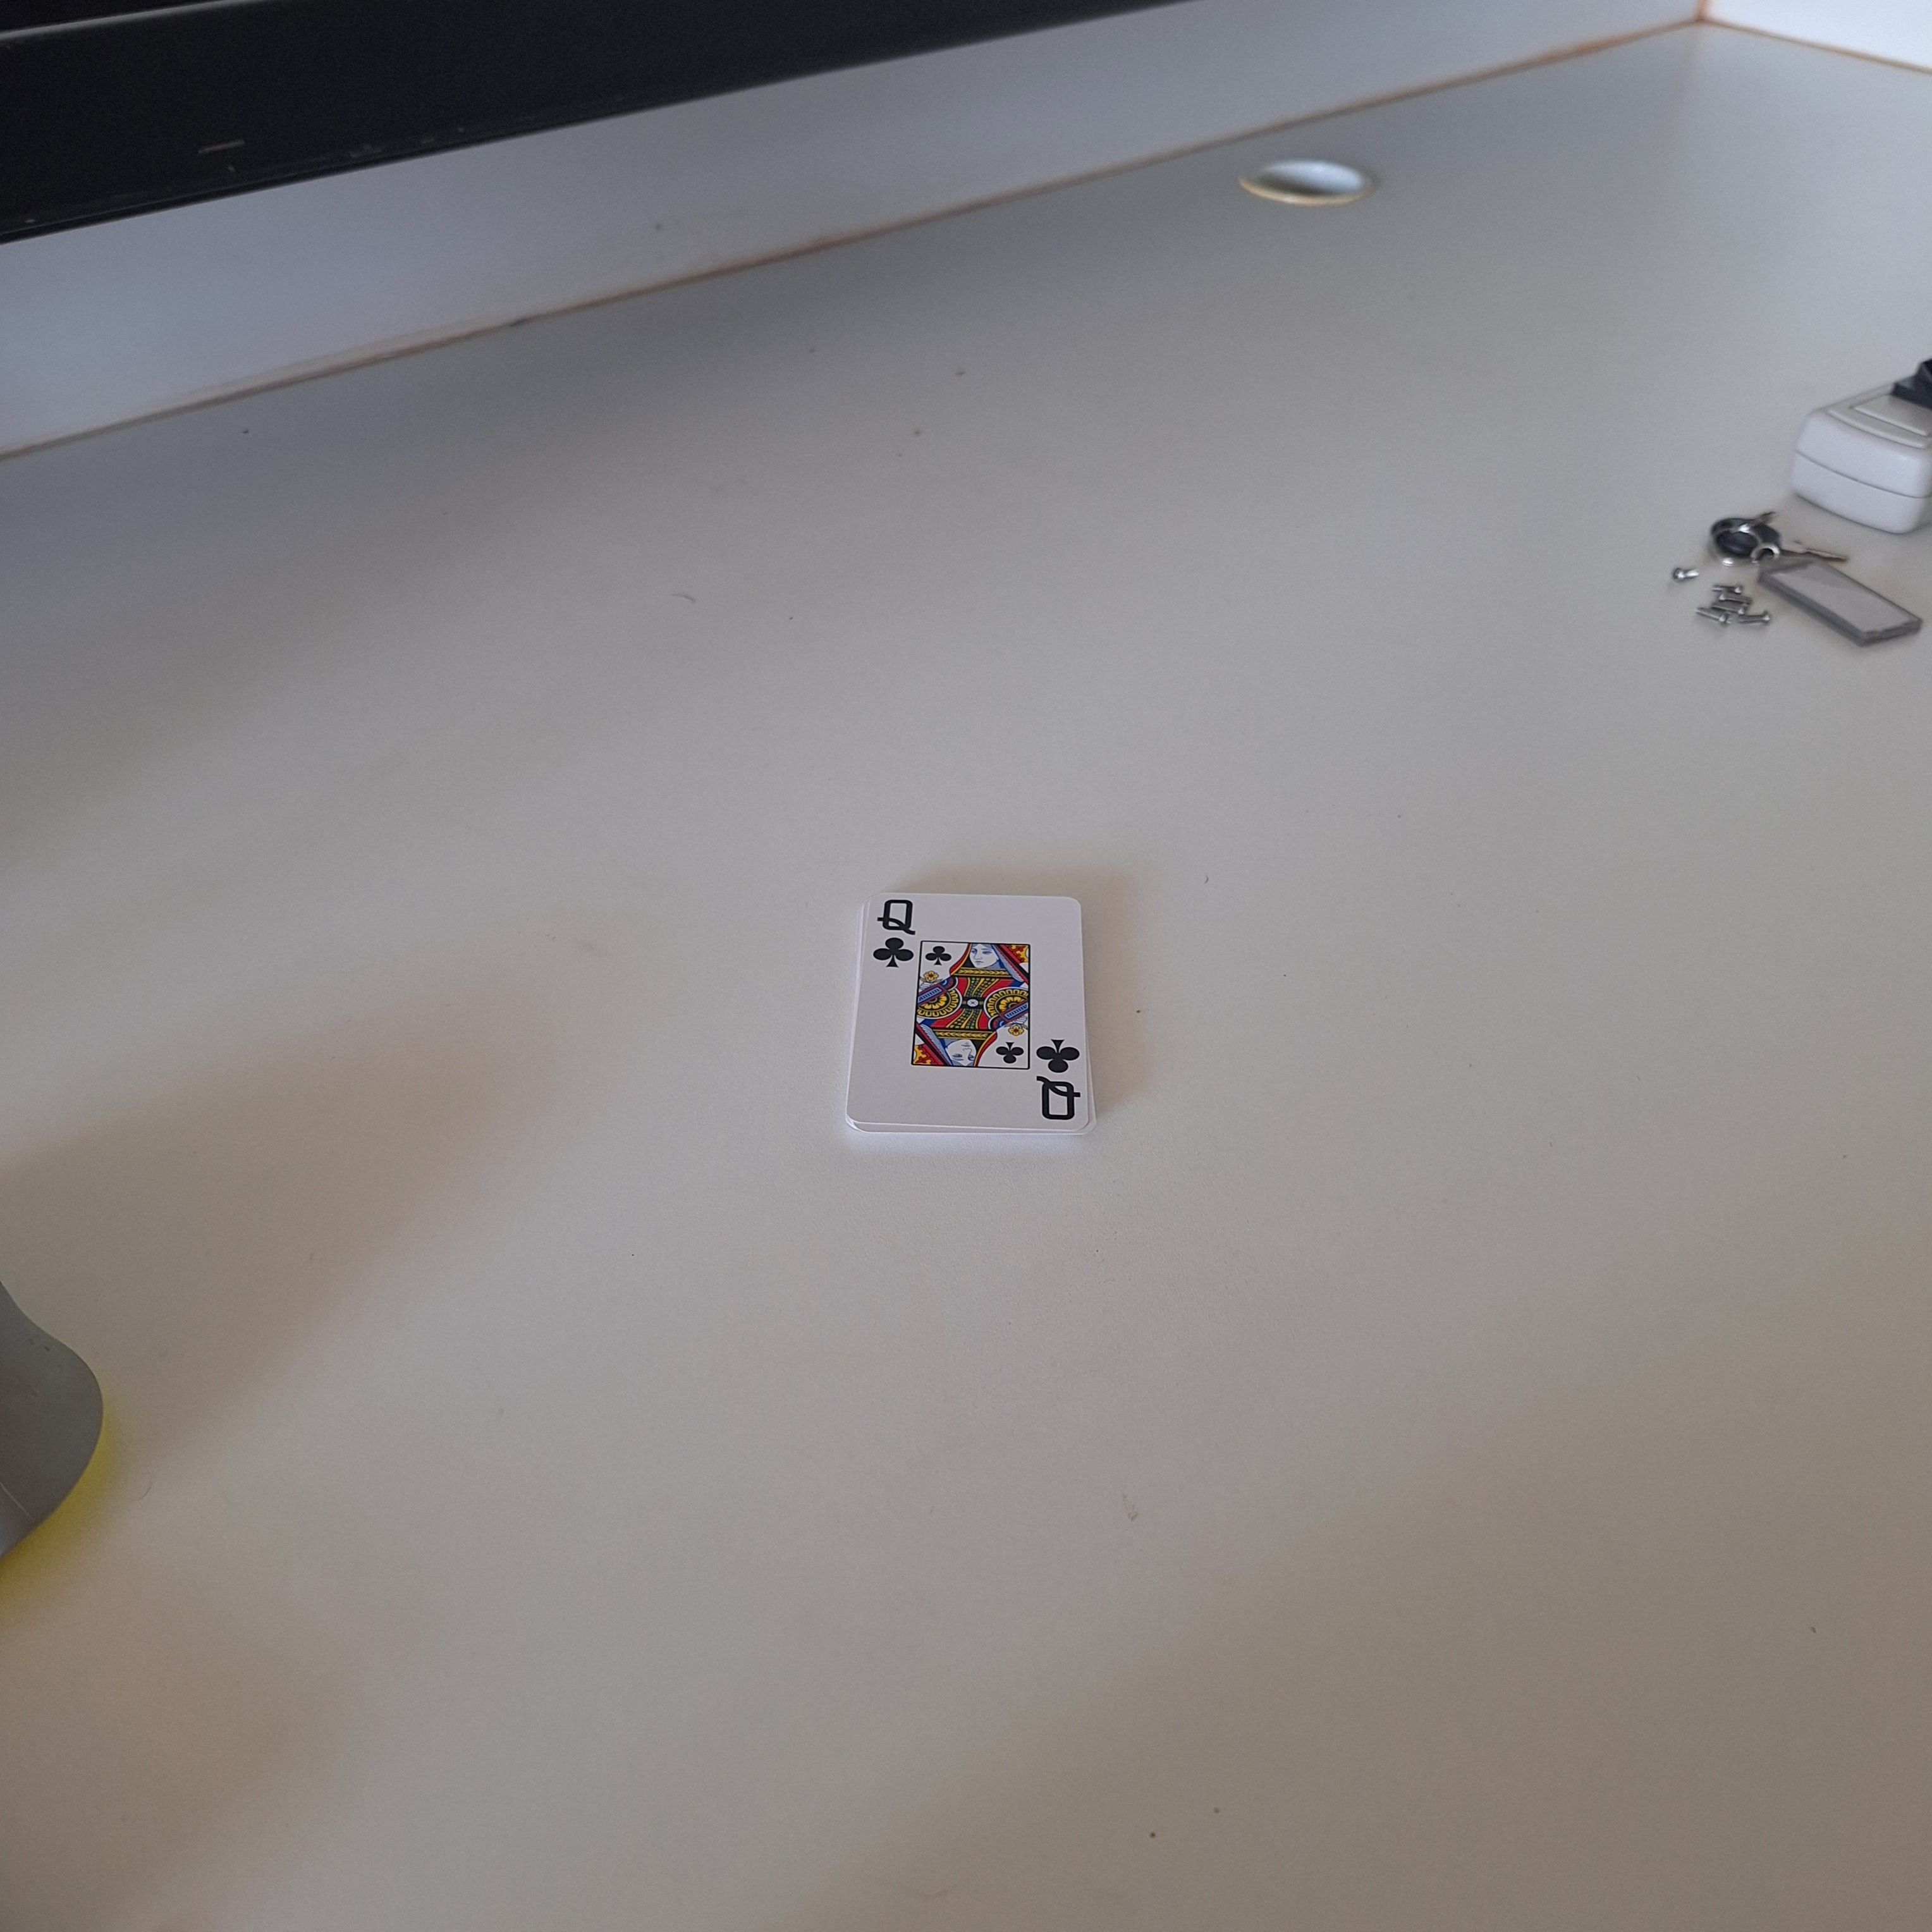QP: (1033, 1026, 1086, 1134), (862, 890, 922, 973)
